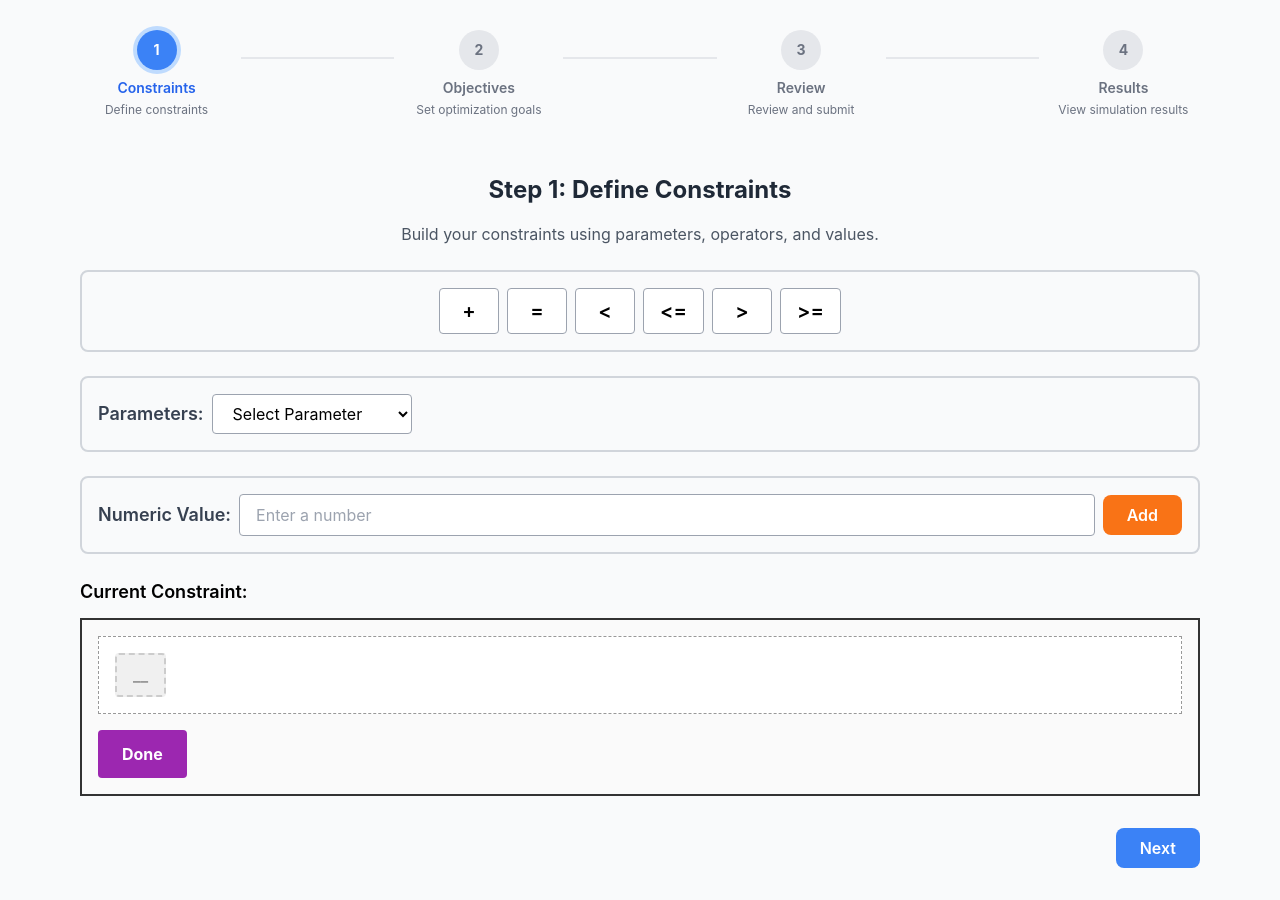
Test: Multi-Step Form Navigation › shows Review step as final step
(page scrolled)
// Navigate to step 2
Step 1. Click the button with test id "next-button" → {"x": 1158, "y": 848}, box [1116,828,1200,868]
(page scrolled)
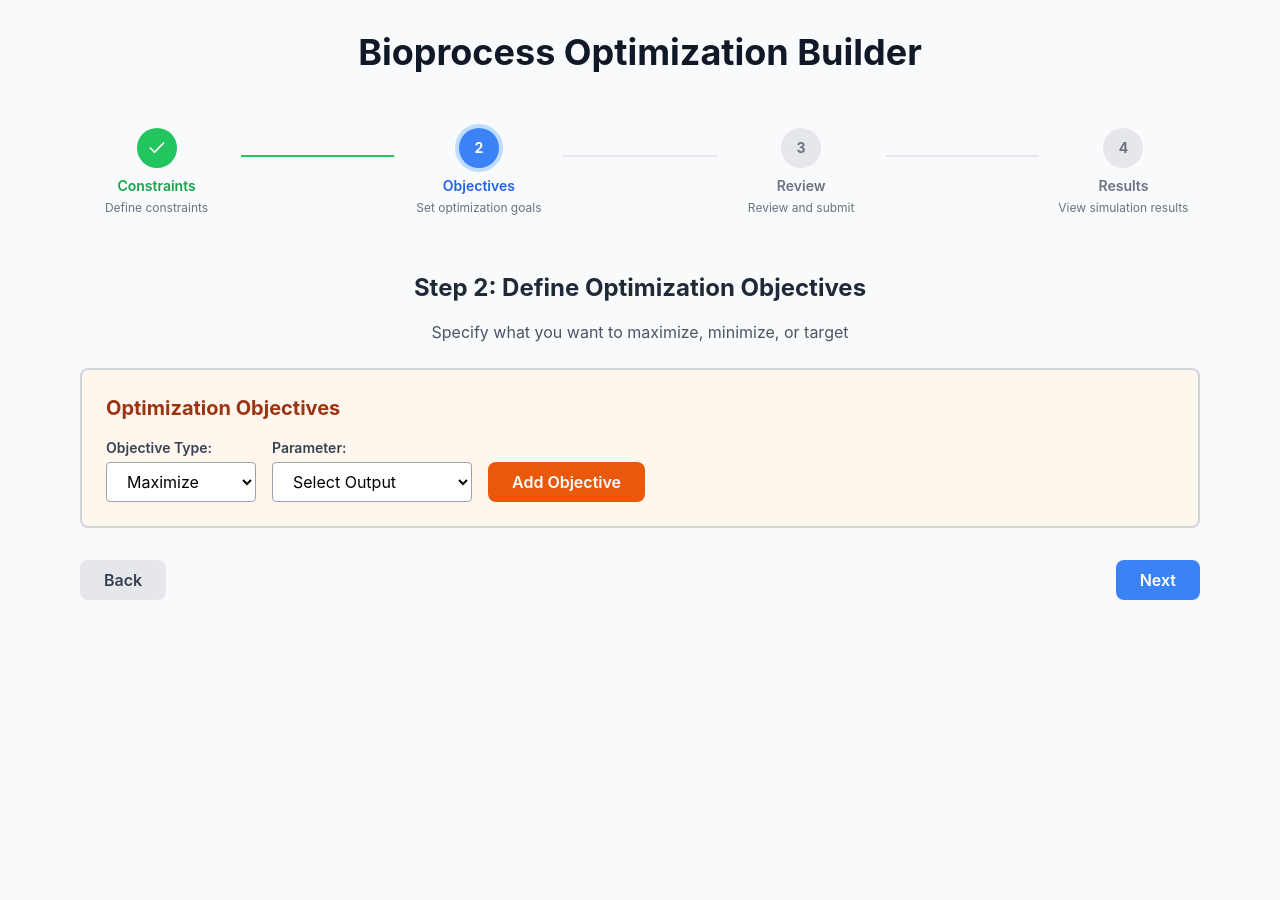
// Navigate to step 3
Step 2. Click the button with test id "next-button" → {"x": 1158, "y": 580}, box [1116,560,1200,600]
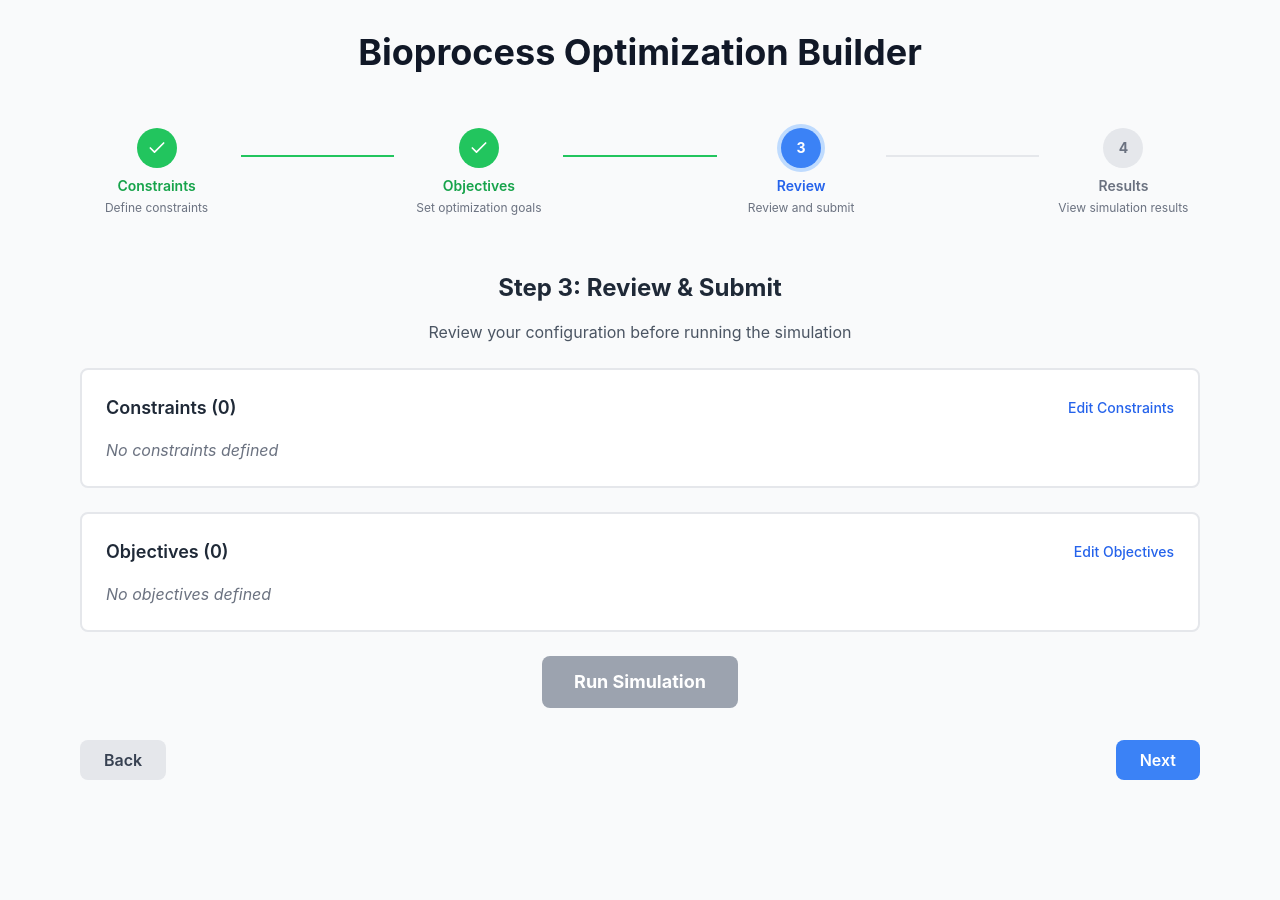
Now the heading "Step 3: Review & Submit" is shown, box [498,273,782,302]
